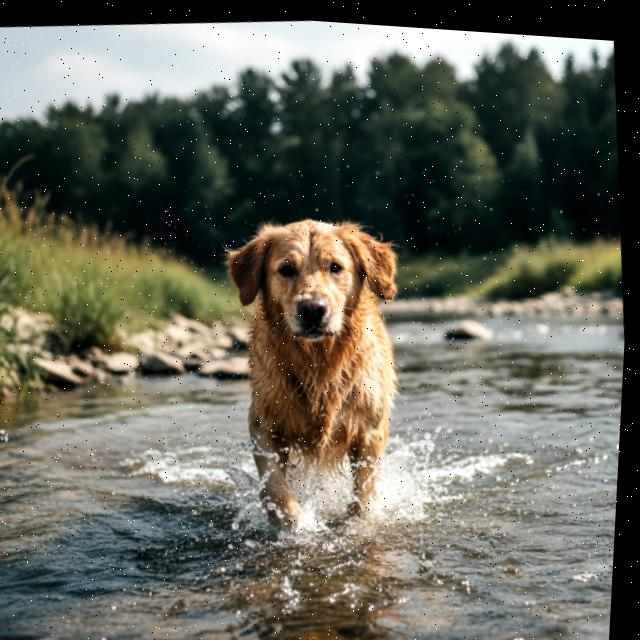dog: (189, 188, 446, 564)
